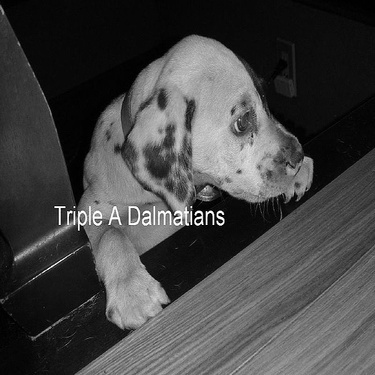dog: (56, 21, 327, 344)
